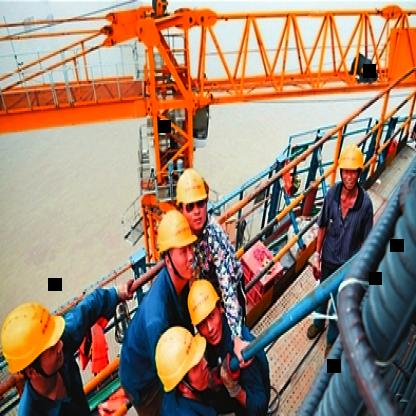helmet: (0, 294, 68, 394), (155, 324, 214, 404), (154, 207, 202, 280), (184, 274, 225, 348), (174, 166, 214, 232), (334, 140, 366, 197)
